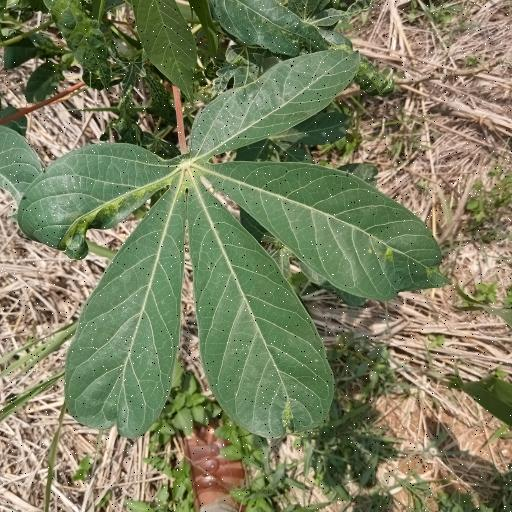Cassava_Mosaic: (24, 56, 440, 443)
